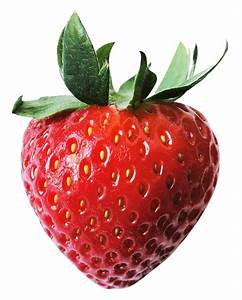Fresa: (19, 89, 227, 293)
